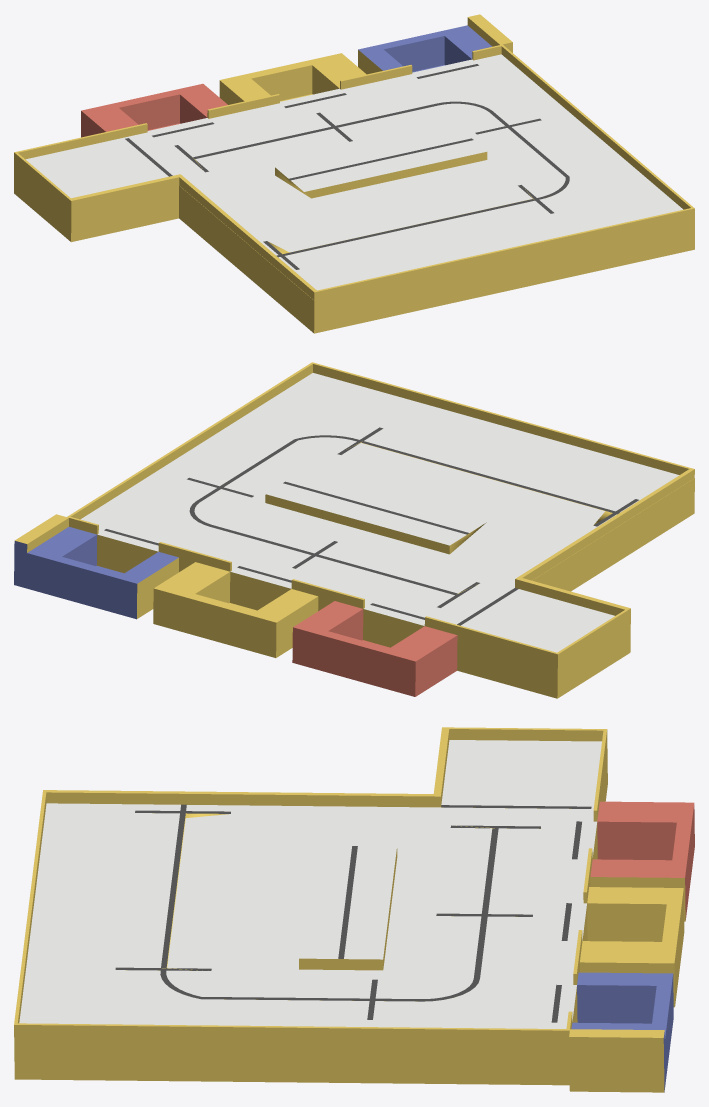
Rendered from irc_stage4.dae.
The picture shows the model from 3 angles, top to bottom: view 1: azimuth 30°, elevation 25°; view 2: azimuth 150°, elevation 25°; view 3: azimuth 270°, elevation 25°; orthographic projection. The views are drawn at different scales.
Visible parts, largest first — view 1: Body1; view 2: Body1; view 3: Body1.
Boxes of the visible parts, x1=… form: Body1: x1=14, y1=14, x2=694, y2=333; Body1: x1=14, y1=362, x2=694, y2=698; Body1: x1=14, y1=727, x2=694, y2=1092.
Size of the model in its own units: 2.49 by 2.26 by 0.2366.
